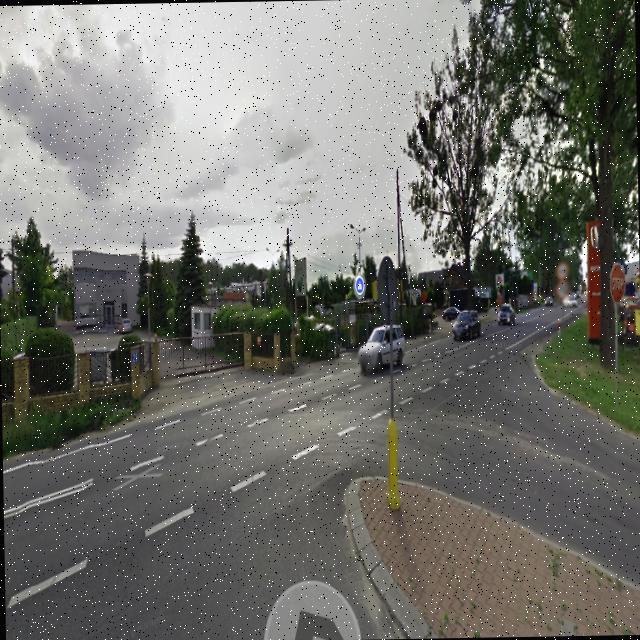Stop: (608, 262, 626, 304)
